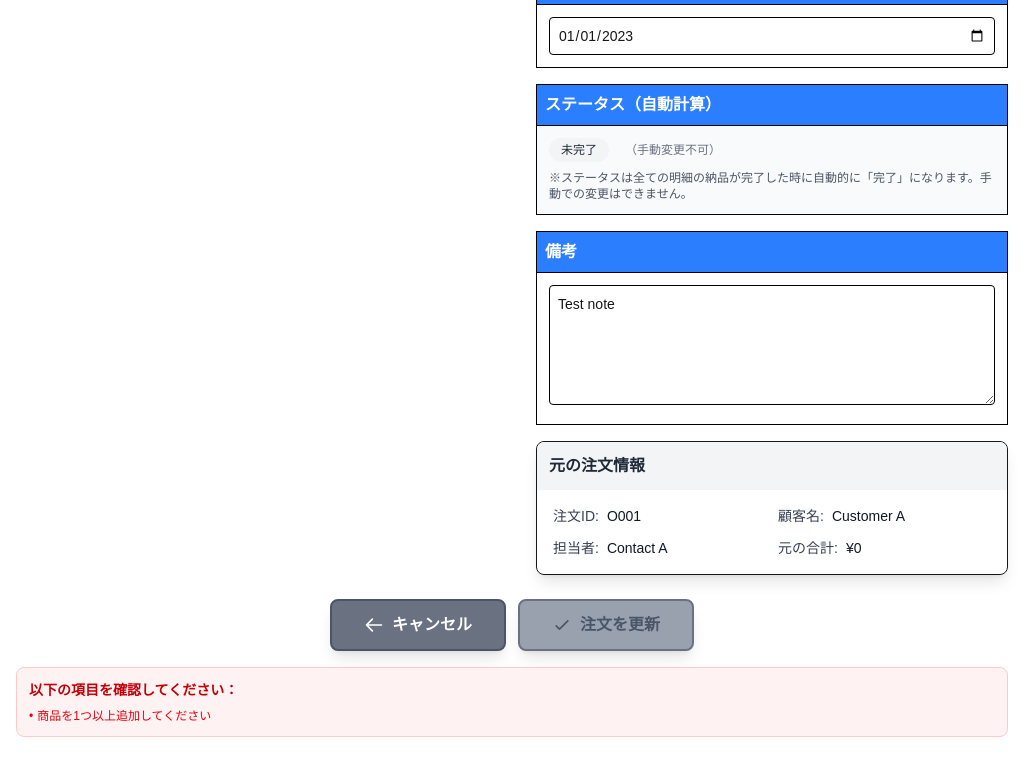
Scenario: OrderEditPage › 空の商品に対するバリデーションエラーを表示する
(page scrolled)
Expected: the text "注文を更新" is shown, [552,613,660,637]
Click the button "注文を更新" at x=606, y=625, box [518,599,694,651]
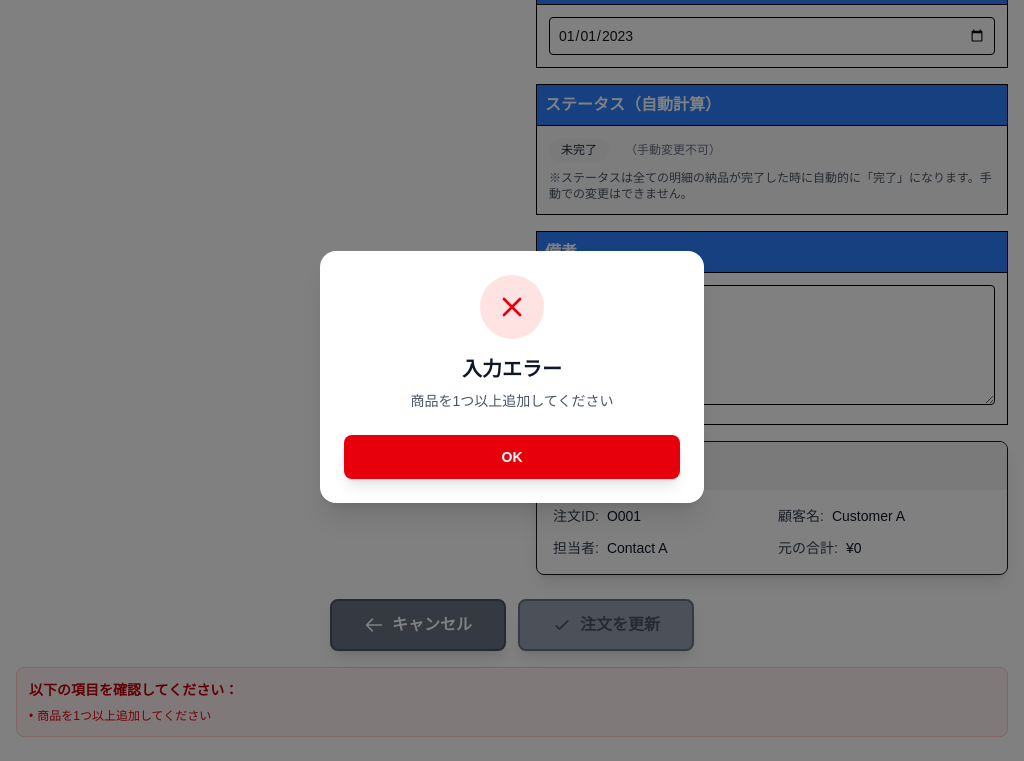
Expected: the heading "入力エラー" is shown, [462,358,562,380]
